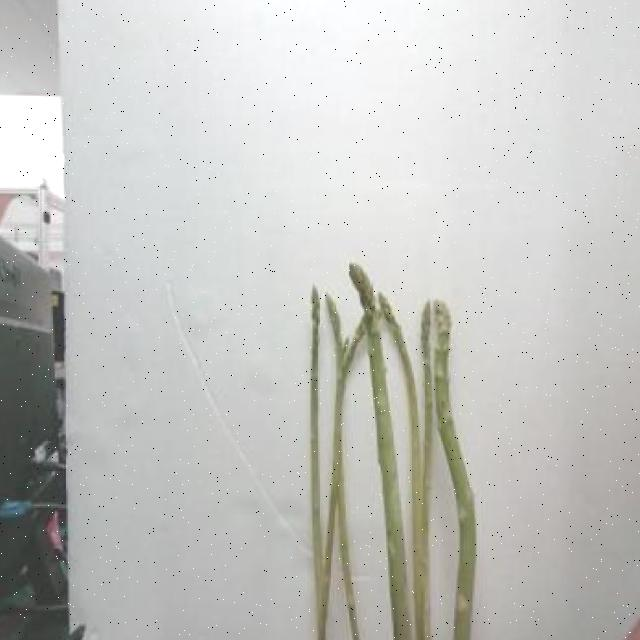aspargus: (348, 263, 413, 640), (435, 300, 477, 640)
